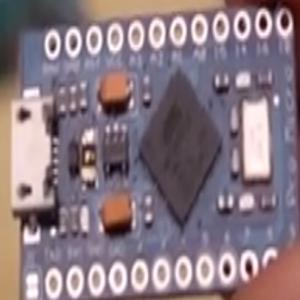duino: (10, 15, 292, 297)
